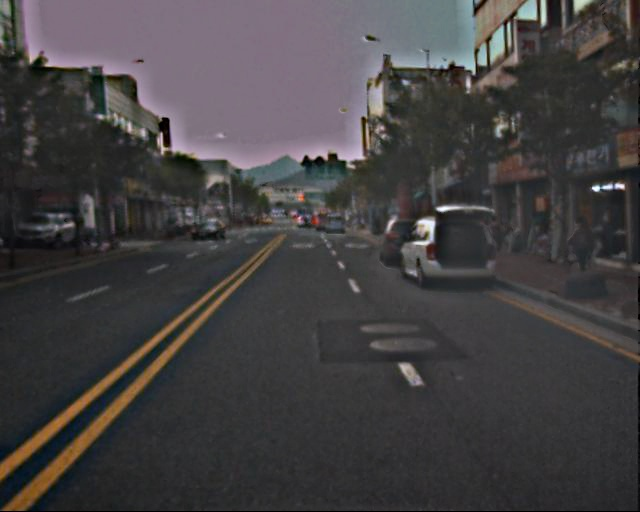person: (564, 217, 596, 283), (484, 214, 504, 262)
